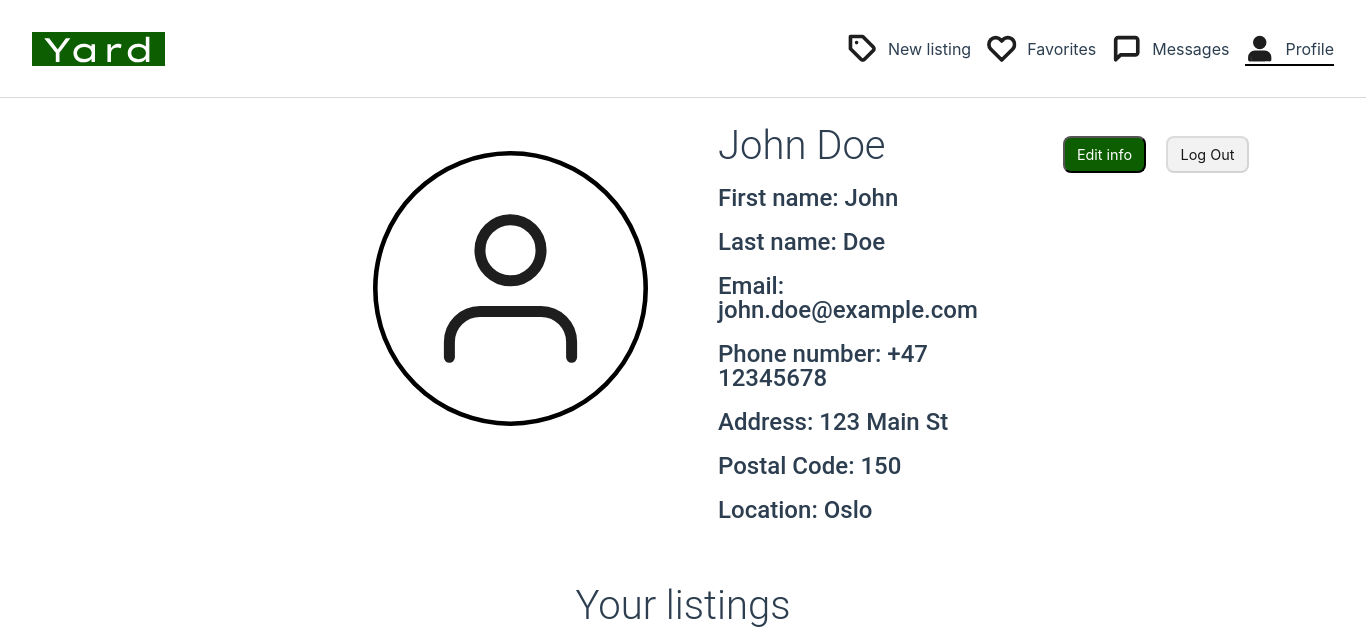
it: Profile Page › can cancel edits without saving
The width and height of the screenshot is (1366, 636).
// Enter edit mode
Click the button with class "edit-info-button" at (1105, 155), box [1063, 136, 1146, 173]
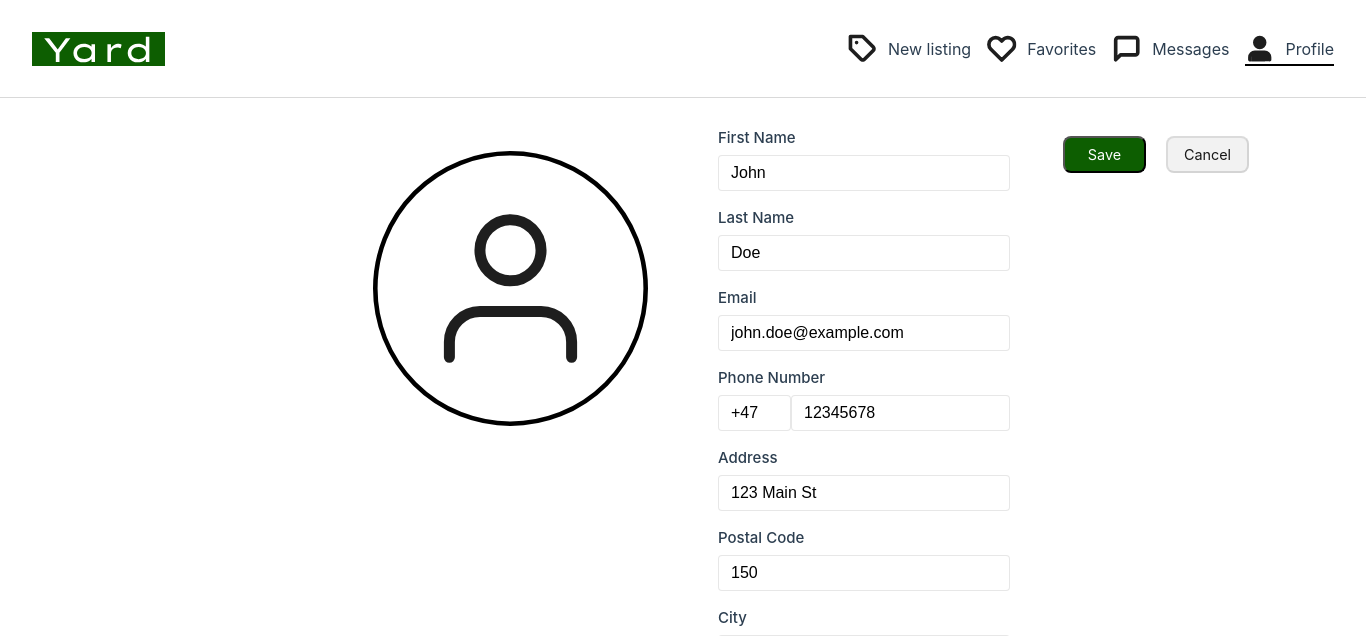
Clear the field with id "firstName" at (864, 173), box [718, 155, 1010, 191]
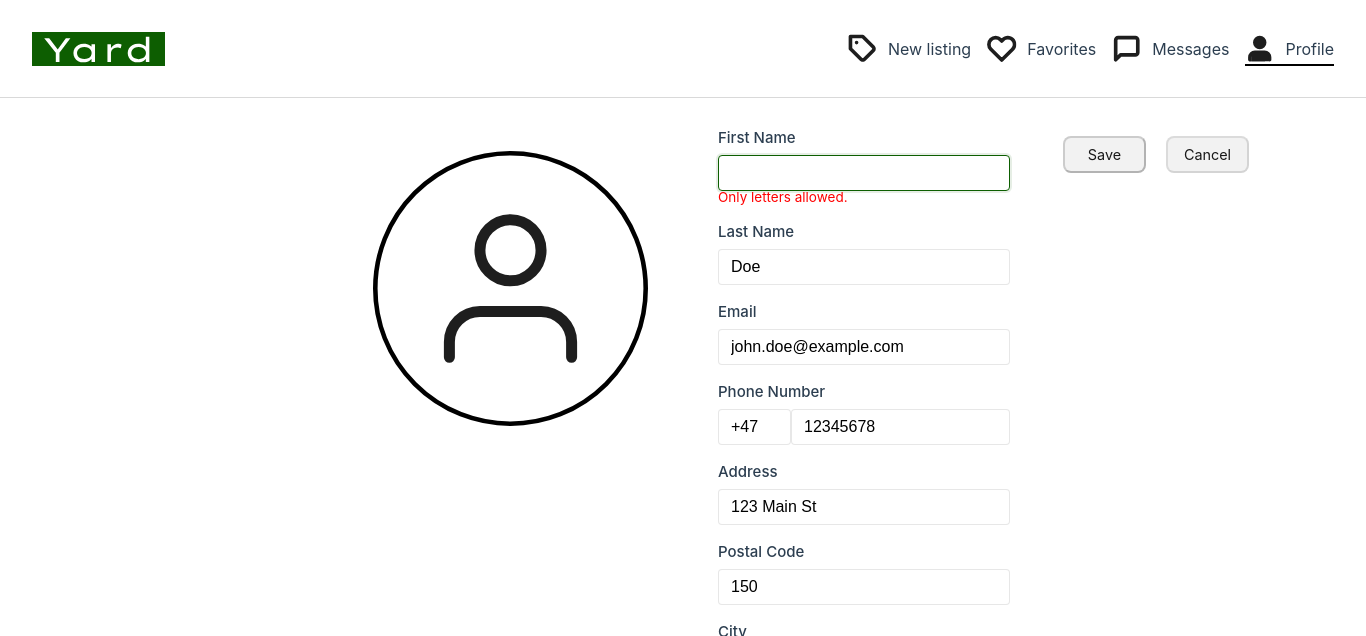
Clear the field with id "lastName" at (864, 267), box [718, 249, 1010, 285]
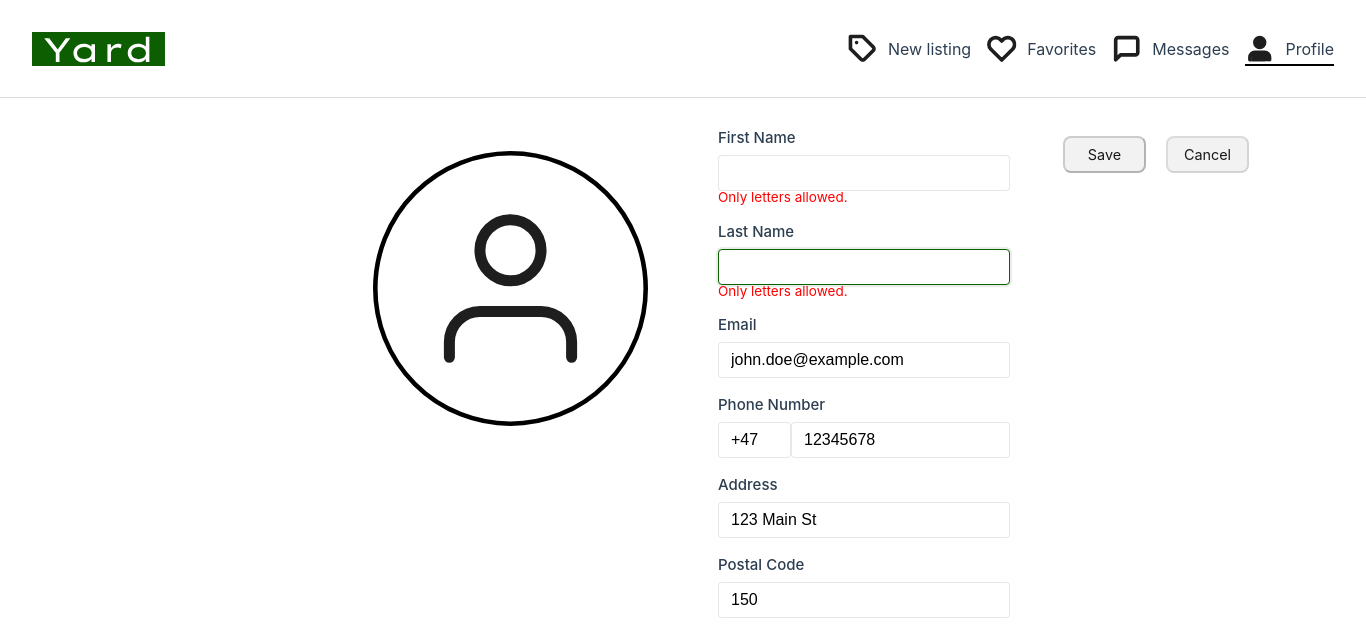
Type "Jane" into the field with id "firstName" at (864, 173), box [718, 155, 1010, 191]
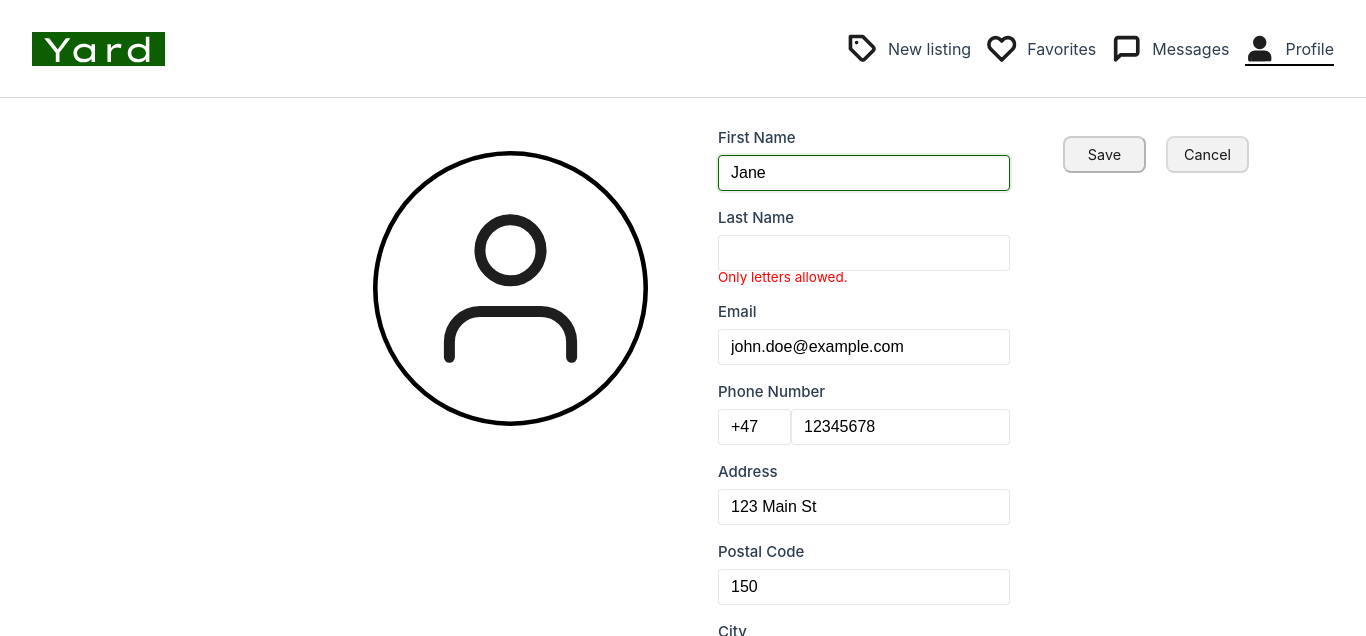
Type "Smith" into the field with id "lastName" at (864, 253), box [718, 235, 1010, 271]
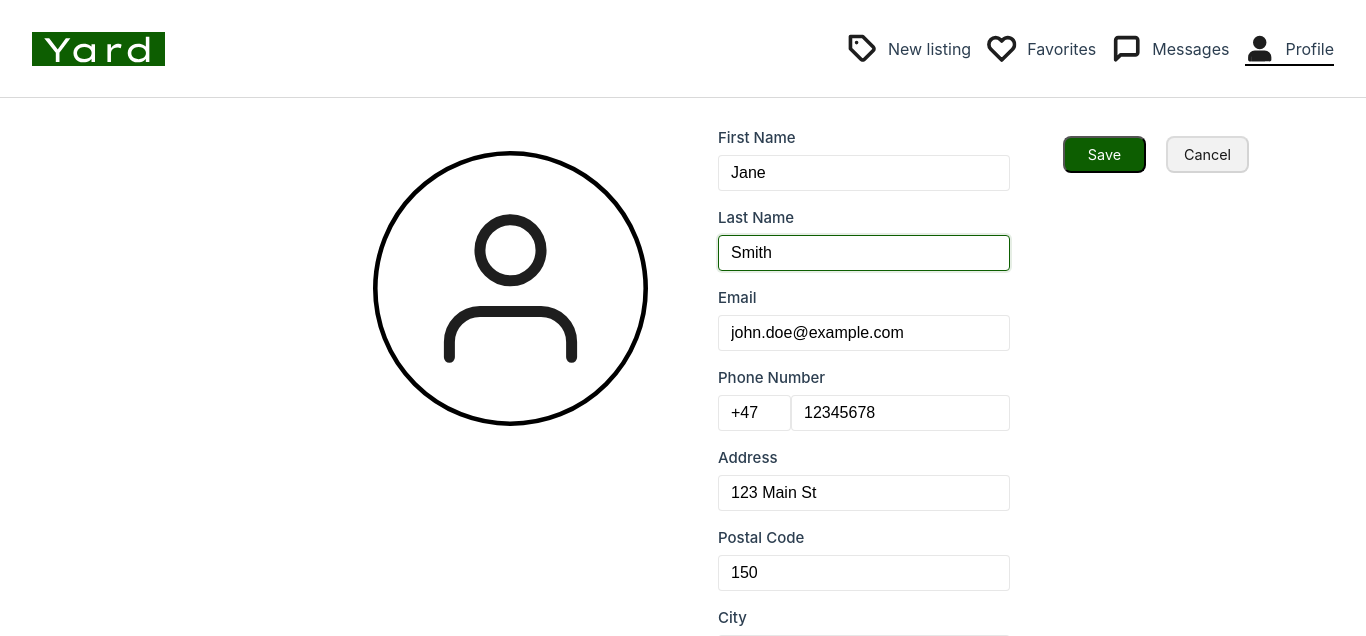
// Cancel changes
Click the button with class "cancel-button" at (1208, 155), box [1166, 136, 1249, 173]
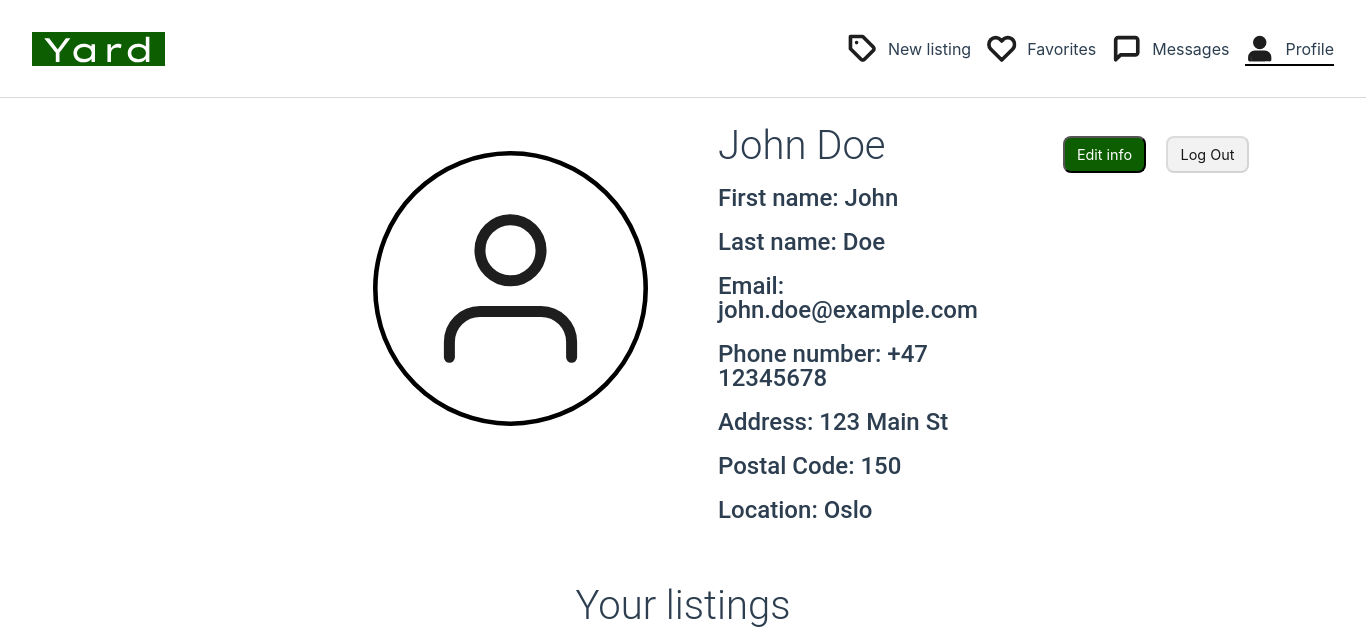
Check: the heading "John Doe" is shown, box [718, 122, 886, 169]
